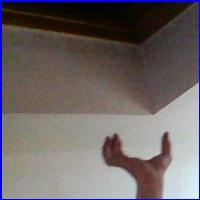space: (95, 130, 181, 176)
